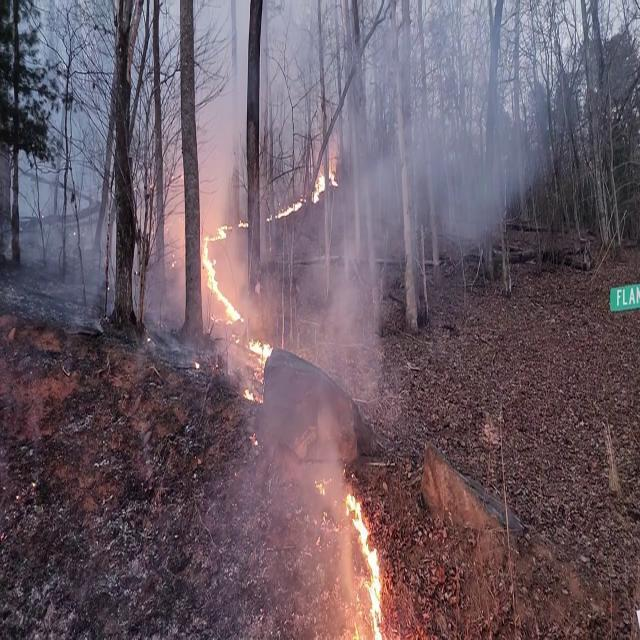Fire: (340, 484, 386, 638), (199, 216, 239, 327), (244, 330, 277, 398), (293, 163, 337, 210)
Smoke: (259, 82, 439, 494), (352, 0, 582, 258)
